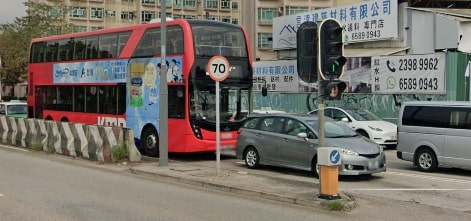Speed Limit: (205, 54, 231, 81)
